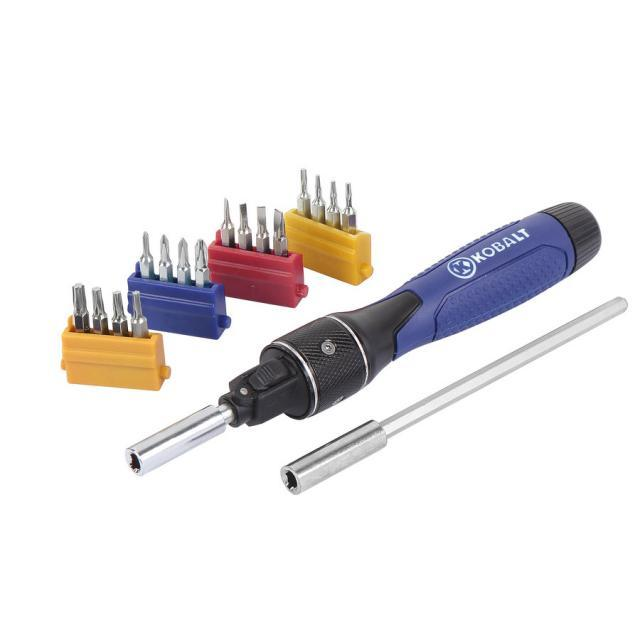screwdriver: (118, 198, 605, 484)
